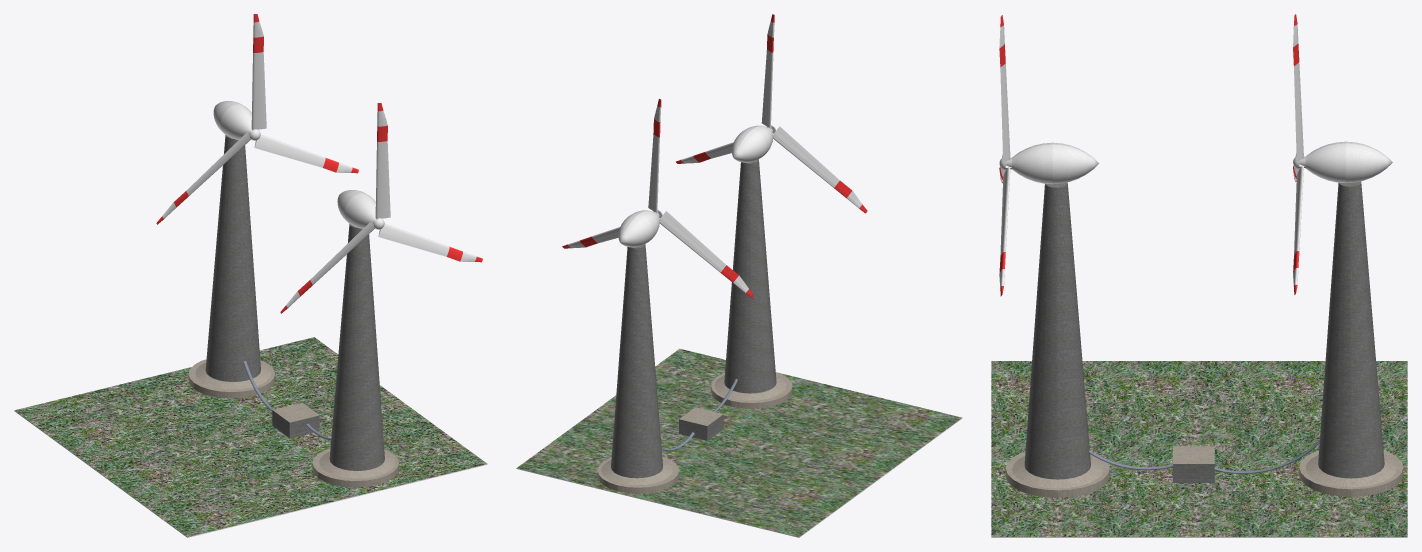
File: windrad_Tech_1.fbx
3 views of the same model, side by side, from view 1: azimuth 30°, elevation 25°; view 2: azimuth 150°, elevation 25°; view 3: azimuth 270°, elevation 25° (orthographic). The views are drawn at different scales.
Visible parts, largest first — view 1: windrad_tech_1_1; view 2: windrad_tech_1_1; view 3: windrad_tech_1_1.
Boxes of the visible parts, x1=… form: windrad_tech_1_1: x1=14, y1=14, x2=487, y2=537; windrad_tech_1_1: x1=516, y1=14, x2=962, y2=537; windrad_tech_1_1: x1=991, y1=14, x2=1407, y2=537.
Size of the model in its own units: 200 by 244 by 200.
